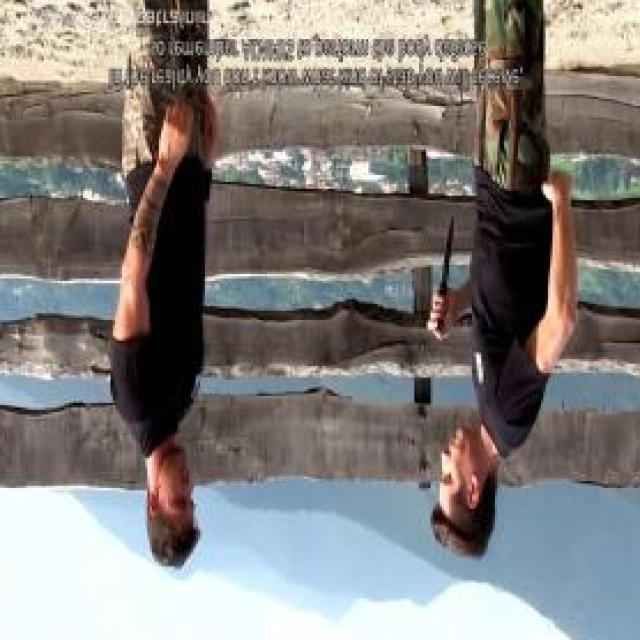knife: (424, 214, 458, 348)
